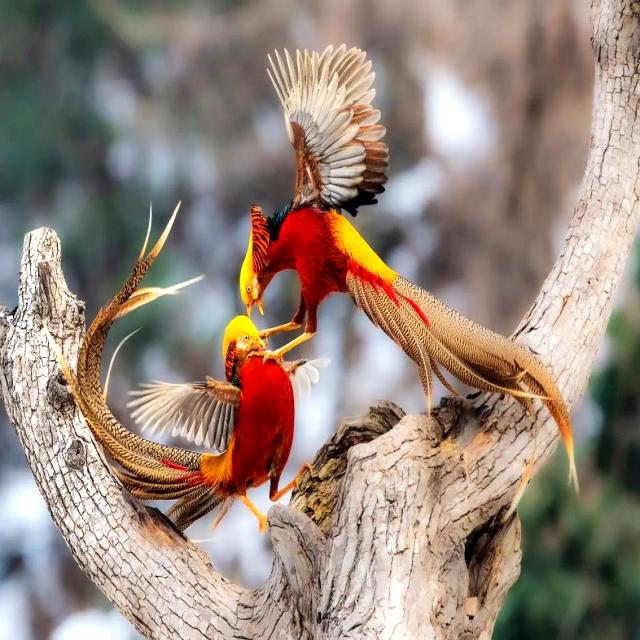Chrysolophus pictus feather: (41, 200, 237, 534), (346, 276, 579, 498)
